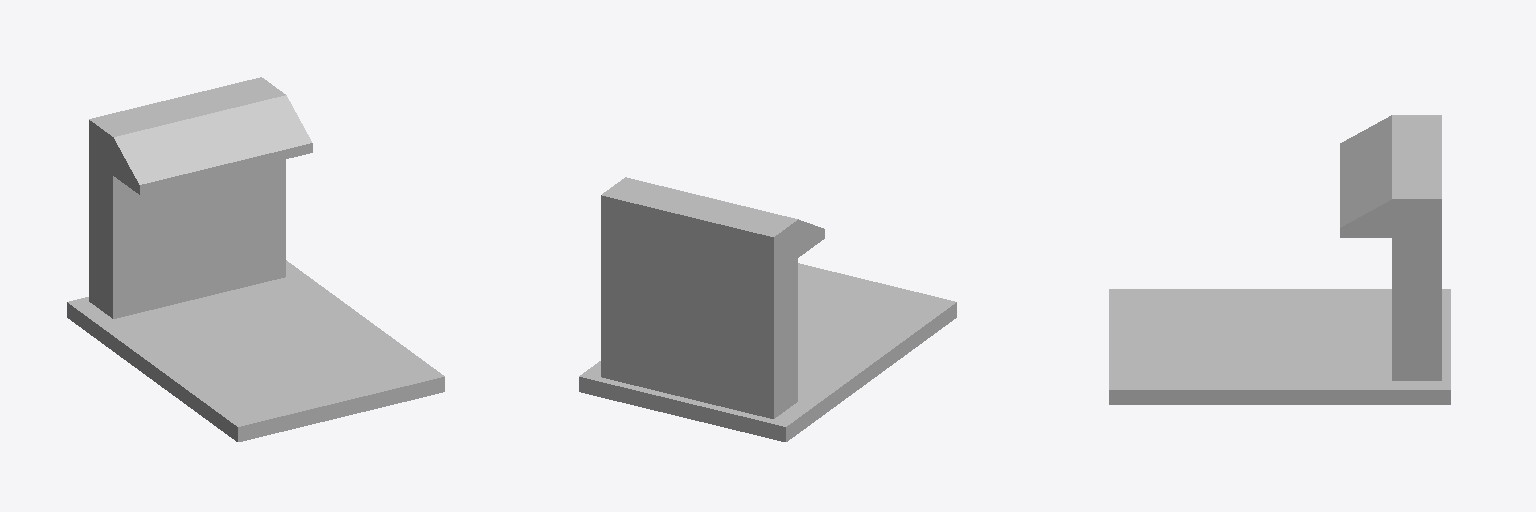
File: logistics_cart.obj
3 views of the same model, side by side, from view 1: azimuth 30°, elevation 25°; view 2: azimuth 150°, elevation 25°; view 3: azimuth 270°, elevation 25° (orthographic).
Visible parts, largest first — view 1: cart_locomotive_clmdl; view 2: cart_locomotive_clmdl; view 3: cart_locomotive_clmdl.
Part boxes in pixels (x1,y1,x2,y2): cart_locomotive_clmdl: (67, 77, 444, 441); cart_locomotive_clmdl: (579, 177, 956, 441); cart_locomotive_clmdl: (1109, 115, 1450, 404).
Bounding box in the file's own units: 0.7 × 0.637 × 1.